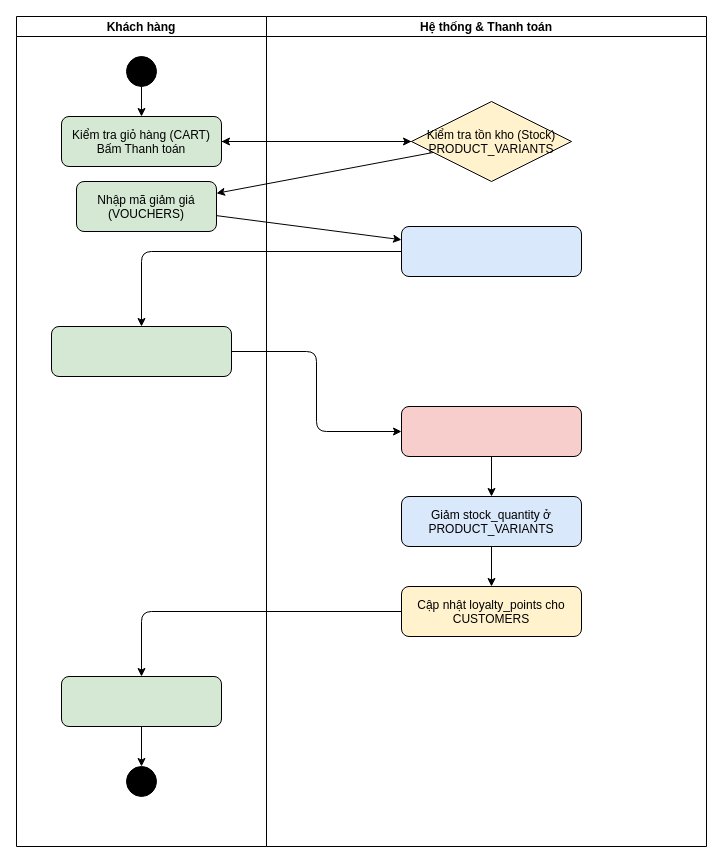
This 723x863 diagram has some shape labels left out. The centre of each missing label's shape, as x and y in pixels:
"Chọn phương thức thanh toán (Tiền mặt/Chuyển khoản)" goes at [141,351].
"Gửi thông báo thành công & Xuất hóa đơn" goes at [141,701].
"Tạo đơn hàng (ORDERS) & Chi tiết (ORDER_ITEMS)" goes at [491,431].
"VOUCHERS.validate() & Tính toán tổng tiền" goes at [491,251].
